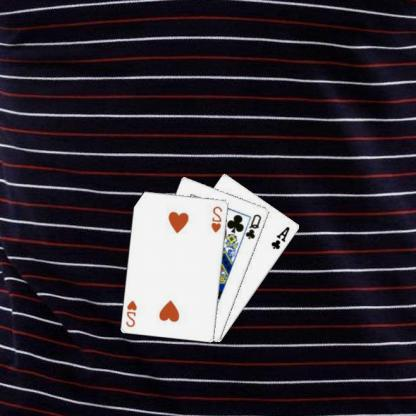2H: (210, 203, 226, 234), (126, 297, 140, 328)
AC: (271, 223, 294, 250)
QC: (245, 211, 265, 240)
